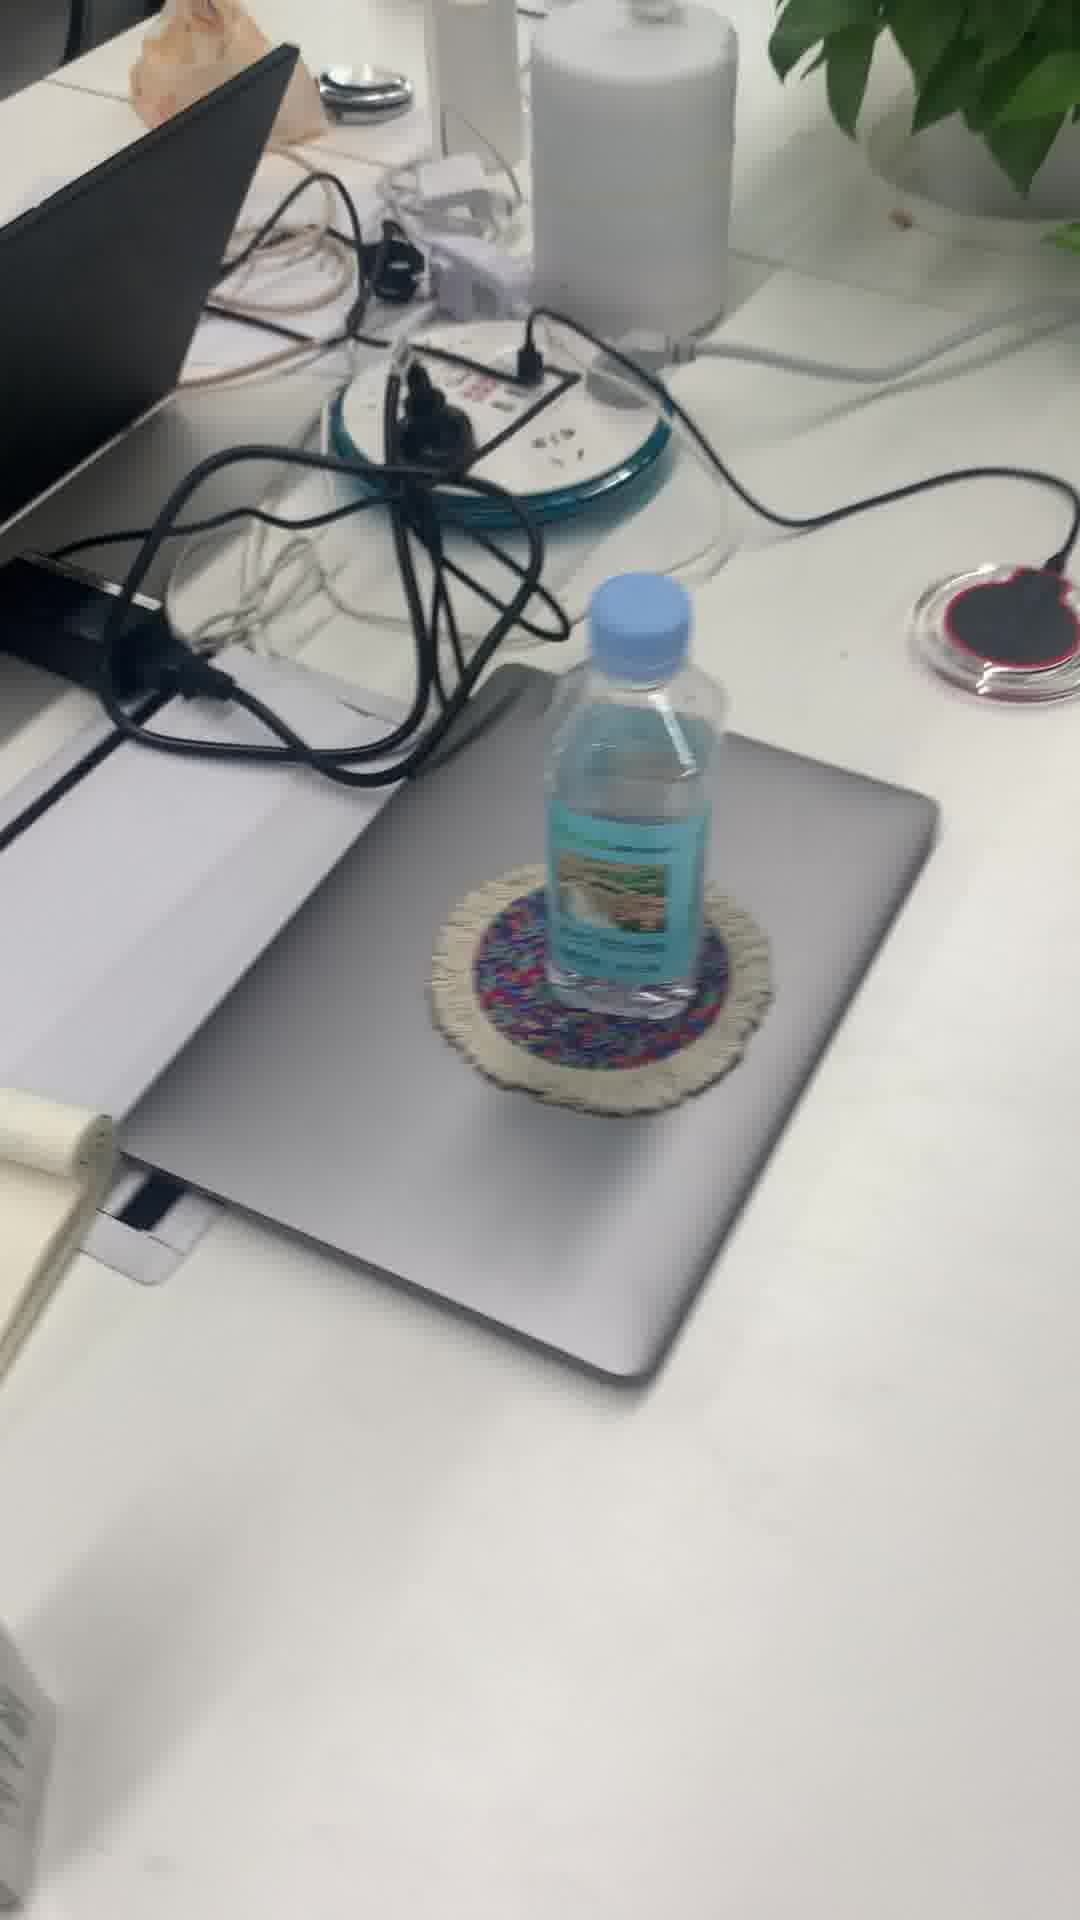水瓶: (531, 578, 731, 1029)
